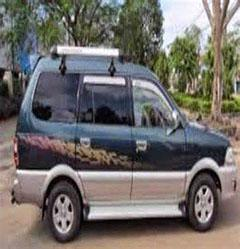car: (8, 37, 233, 248)
